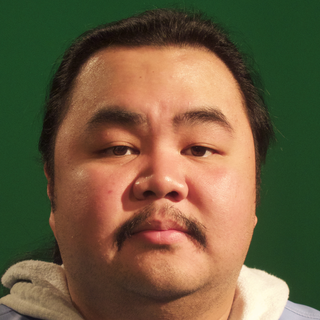eye: (175, 136, 220, 165), (92, 140, 141, 165)
